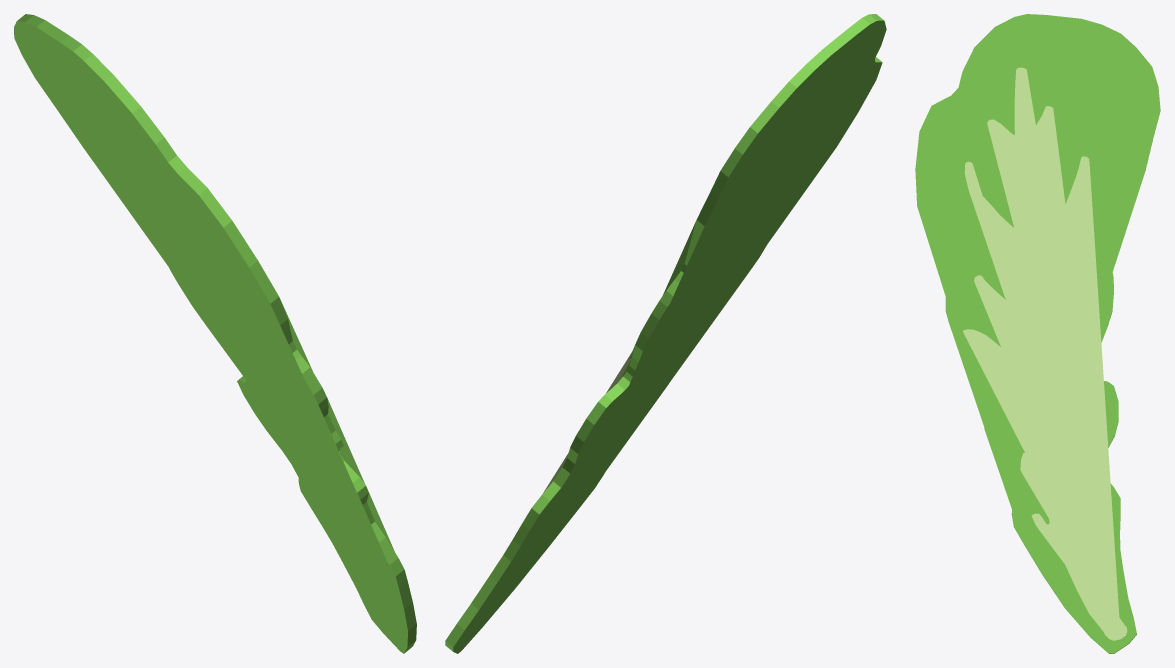
File: salad_cut.fbx
The picture shows the model from 3 angles, left to right: view 1: azimuth 30°, elevation 25°; view 2: azimuth 150°, elevation 25°; view 3: azimuth 270°, elevation 25°; orthographic projection. The views are drawn at different scales.
Visible parts, largest first — view 1: Plan.007; view 2: Plan.007; view 3: Plan.007.
Boxes of the visible parts, bbox=[...] form: Plan.007: bbox=[14, 14, 416, 653]; Plan.007: bbox=[445, 14, 886, 653]; Plan.007: bbox=[915, 14, 1160, 653].
Bounding box in the file's own units: 89.64 × 160 × 69.51.
